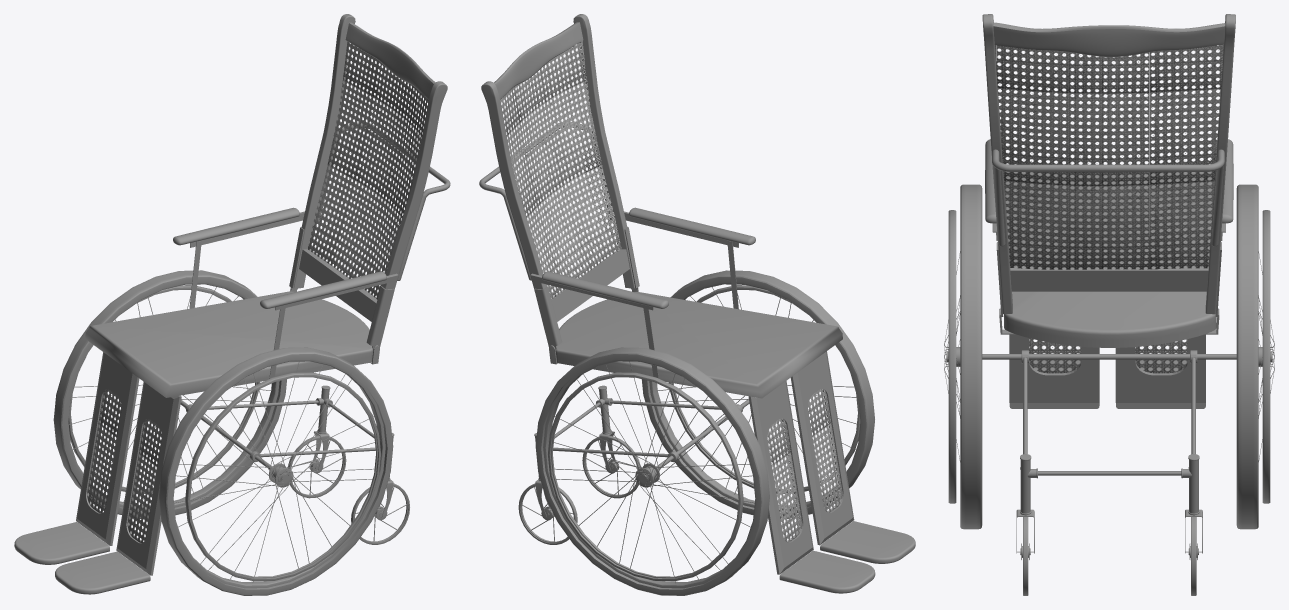
Rendered from wheelchair.FBX.
3 views of the same model, side by side, from view 1: azimuth 30°, elevation 25°; view 2: azimuth 150°, elevation 25°; view 3: azimuth 270°, elevation 25° (orthographic). The views are drawn at different scales.
Visible parts, largest first — view 1: Cylinder001, seat, Plane004, Plane003, Box004, Box002, armrests, Plane005, Plane006, Cylinder002, Box001, Line001 (+2 smaller); view 2: Cylinder001, seat, Plane004, Plane003, Box002, Box004, armrests, Plane006, Plane005, Cylinder002, Box001, Object002 (+2 smaller); view 3: Plane004, Cylinder001, seat, Plane003, Box001, Box002, Box004, Cylinder002, Line001, armrests, Plane005, Plane006 (+2 smaller).
Part boxes in pixels (box(x1,y1,x2,y2)): Cylinder001: box(53, 270, 393, 595); seat: box(85, 291, 373, 397); Plane004: box(308, 41, 428, 299); Plane003: box(289, 14, 447, 349); Box004: box(14, 352, 139, 564); Box002: box(55, 382, 181, 594); armrests: box(173, 207, 398, 378); Plane005: box(127, 419, 161, 542); Plane006: box(87, 389, 121, 513); Cylinder002: box(208, 385, 394, 520); Box001: box(345, 22, 435, 99); Line001: box(318, 122, 450, 280); Cylinder001: box(535, 270, 874, 595); seat: box(555, 292, 842, 398); Plane004: box(500, 41, 621, 299); Plane003: box(481, 14, 639, 349); Box002: box(790, 351, 915, 563); Box004: box(748, 381, 875, 593); armrests: box(530, 207, 755, 378); Plane006: box(767, 418, 801, 542); Plane005: box(808, 389, 842, 512); Cylinder002: box(534, 385, 720, 520); Box001: box(494, 22, 583, 99); Object002: box(582, 435, 640, 498); Plane004: box(995, 44, 1223, 269); Cylinder001: box(944, 184, 1274, 529); seat: box(1004, 171, 1216, 347); Plane003: box(982, 14, 1235, 316); Box001: box(993, 22, 1225, 56); Box002: box(1009, 334, 1099, 408); Box004: box(1115, 334, 1205, 408); Cylinder002: box(1016, 357, 1202, 559); Line001: box(992, 149, 1224, 246); armrests: box(985, 139, 1233, 240); Plane005: box(1029, 338, 1081, 373); Plane006: box(1135, 339, 1187, 373).
Bounding box in the file's own units: 93.49 × 112 × 55.11.
